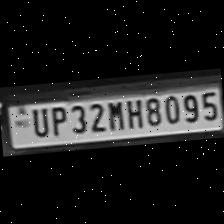0: (159, 92, 181, 124)
2: (84, 98, 106, 132)
3: (66, 100, 88, 134)
5: (197, 88, 220, 122)
8: (141, 92, 163, 126)
9: (180, 90, 200, 122)
H: (122, 95, 144, 129)
M: (104, 97, 124, 130)
P: (46, 102, 68, 136)
U: (27, 104, 50, 137)
